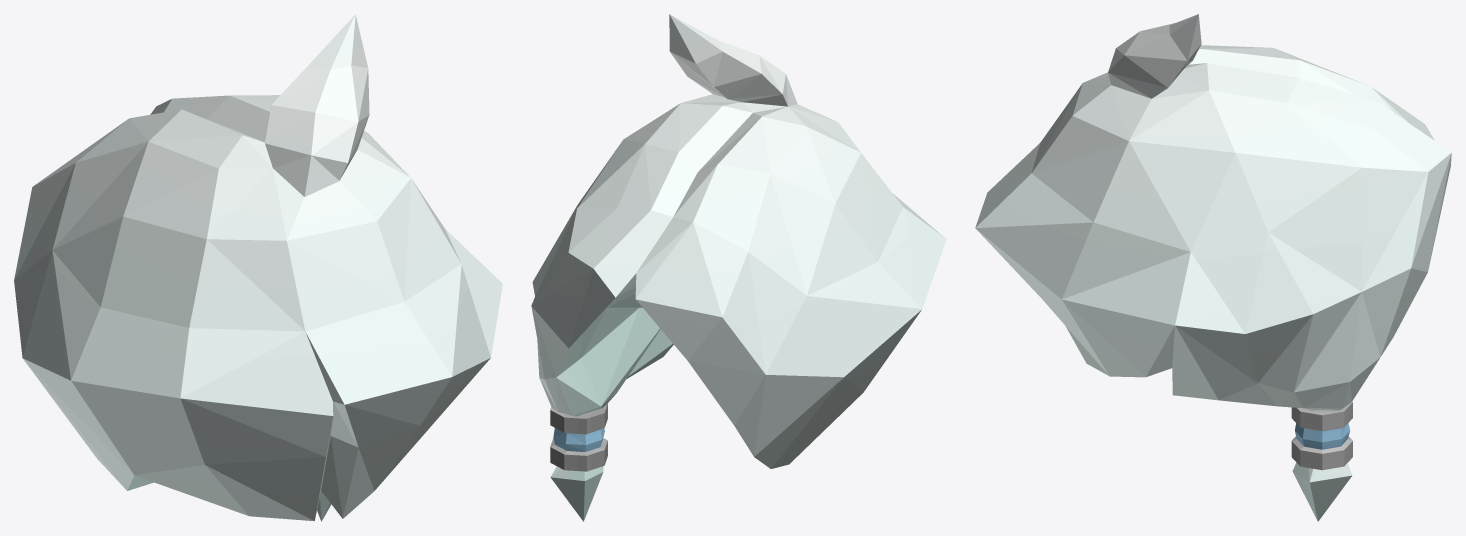
File: CharSkyKid_Hair_BraidSideSmall.glb
3 views of the same model, side by side, from view 1: azimuth 30°, elevation 25°; view 2: azimuth 150°, elevation 25°; view 3: azimuth 270°, elevation 25° (orthographic). The views are drawn at different scales.
Parts seen in each view (by area): view 1: CharSkyKid_Hair_BraidSideSmall; view 2: CharSkyKid_Hair_BraidSideSmall; view 3: CharSkyKid_Hair_BraidSideSmall.
Boxes of the visible parts, x1=… form: CharSkyKid_Hair_BraidSideSmall: x1=14, y1=14, x2=502, y2=521; CharSkyKid_Hair_BraidSideSmall: x1=531, y1=14, x2=946, y2=521; CharSkyKid_Hair_BraidSideSmall: x1=975, y1=14, x2=1451, y2=521.
Bounding box in the file's own units: 3.48 × 4.41 × 3.86.
Materials: 1 (1 with a texture image).
